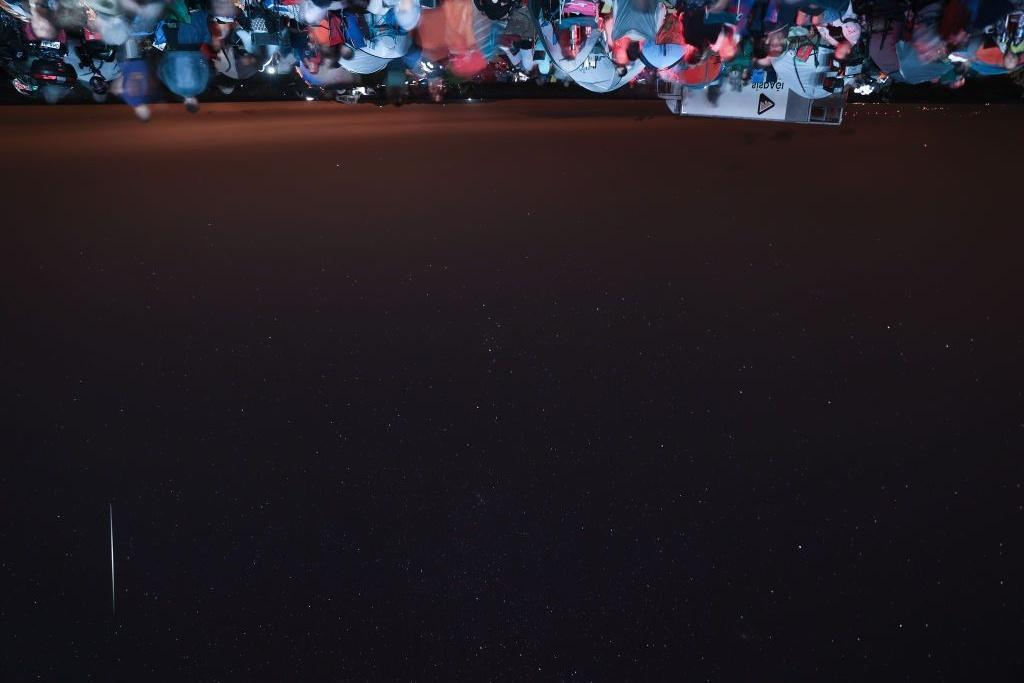meteorite: (93, 486, 131, 622)
